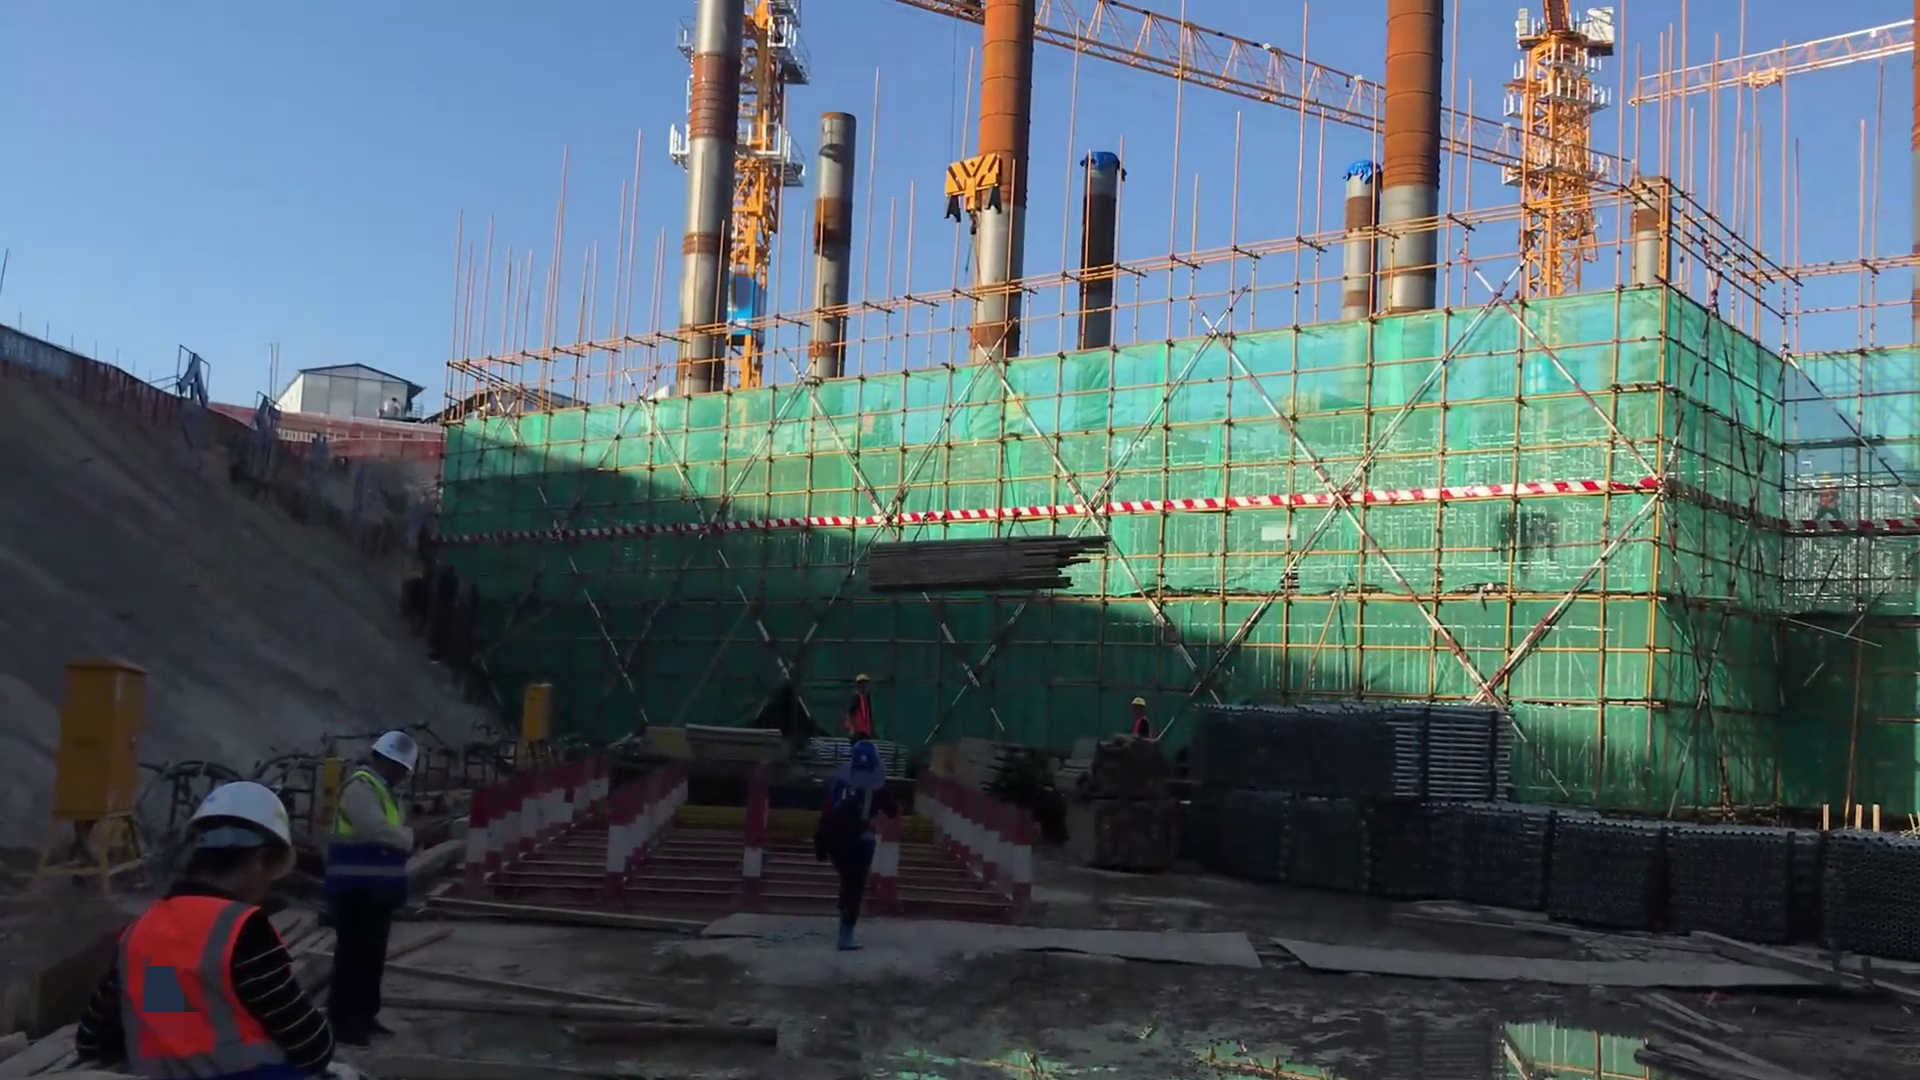ebox: (514, 678, 551, 736)
helmet: (147, 768, 336, 889), (358, 729, 449, 797), (848, 673, 870, 690), (1130, 698, 1150, 712)
hook: (945, 148, 1001, 218)
person: (70, 763, 316, 1072), (311, 708, 433, 1060), (811, 741, 892, 949), (837, 666, 881, 743), (1125, 695, 1163, 747)
scaffold: (1306, 702, 1511, 797), (1550, 809, 1683, 931), (1447, 801, 1551, 913), (1188, 700, 1306, 792), (1176, 793, 1281, 889), (1276, 793, 1372, 893), (1372, 792, 1446, 900)
vest: (109, 904, 256, 1038), (331, 783, 405, 919), (845, 696, 873, 729), (1130, 720, 1153, 741)
wood: (856, 536, 1114, 602)
